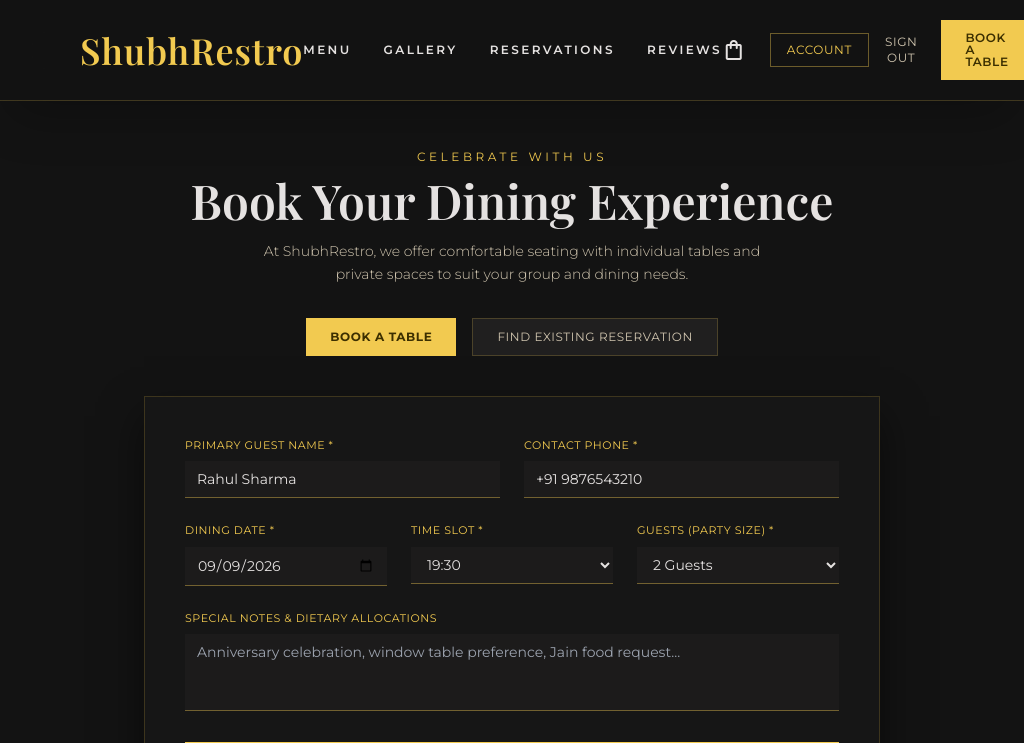
BookATable Component Tests › should toggle to reservation lookup view
The image size is (1024, 743).
Click the button "Find Existing Reservation": x=595, y=336 [472,318,718,356]
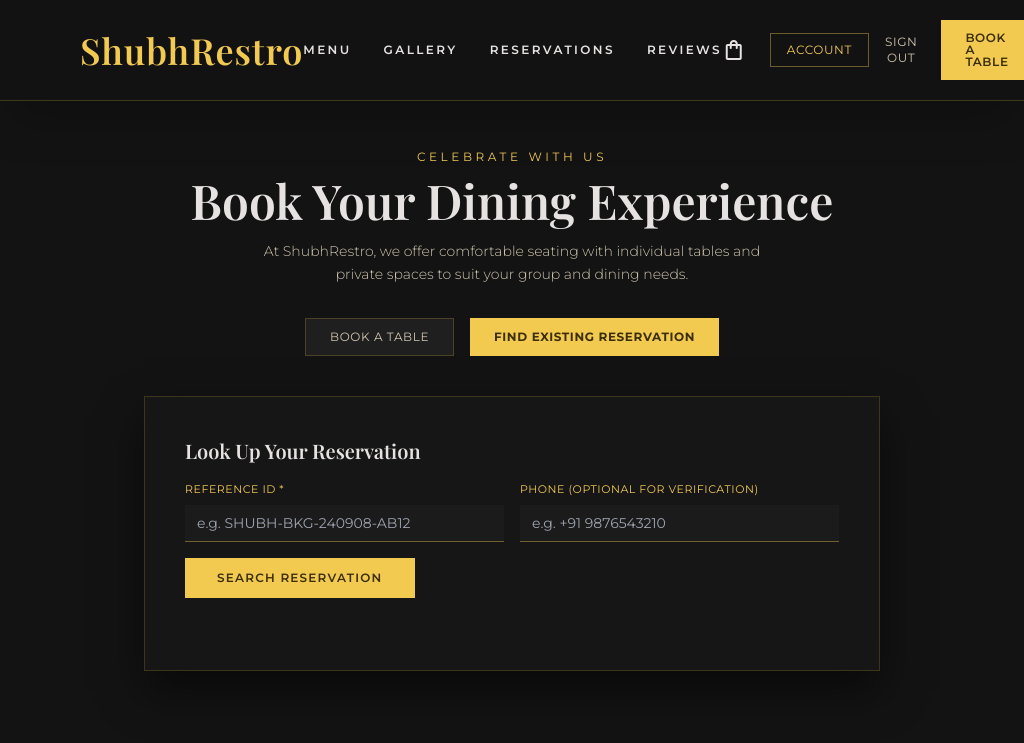
Now the heading "Look Up Your Reservation" is shown, box [185,436,421,464]
Now the field with placeholder "e.g. SHUBH-BKG-240908-AB12" is shown, box [185,505,504,542]
Now the button "SEARCH RESERVATION" is shown, box [185,558,414,598]
